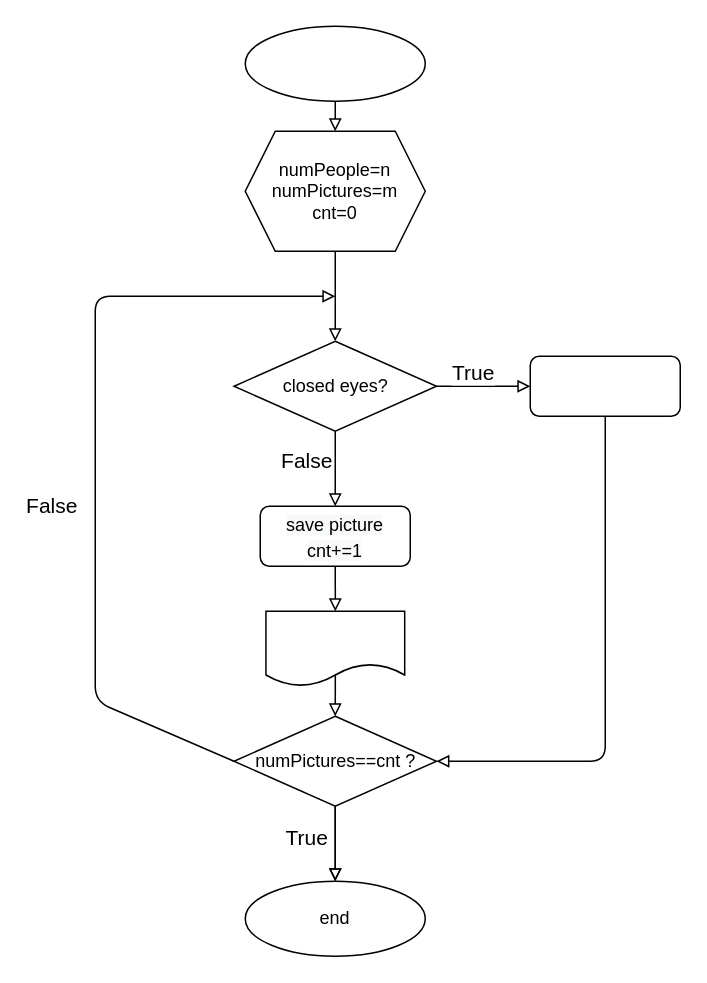
This 707x983 diagram has some shape labels left out. The centre of each missing label's shape, as x and y in pixels:
"do not save picture" belongs at (x=604, y=385).
"save alarm" belongs at (x=334, y=648).
"start" belongs at (x=334, y=63).
